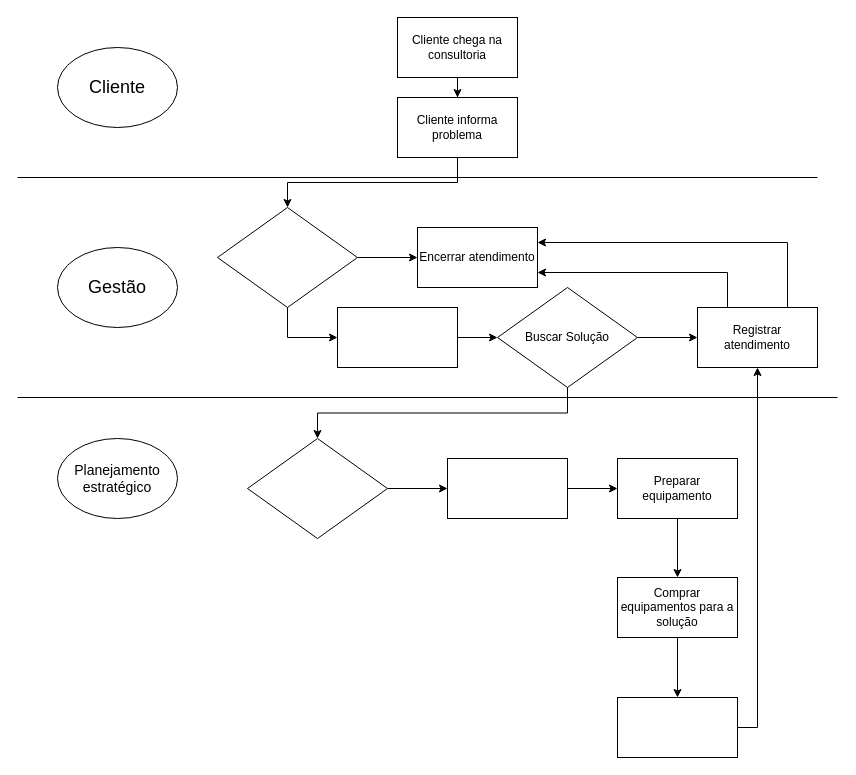
This 856x775 diagram has some shape labels left out. The shapes that lost their labels are listed below. From the top down, each one's centre as x and y in pixels, then its label:
(x=287, y=257): Checagem de dados
(x=397, y=337): Identificar problema
(x=317, y=488): Analisar melhor solução
(x=507, y=488): Fazer orçamento
(x=677, y=727): Implementar solução
